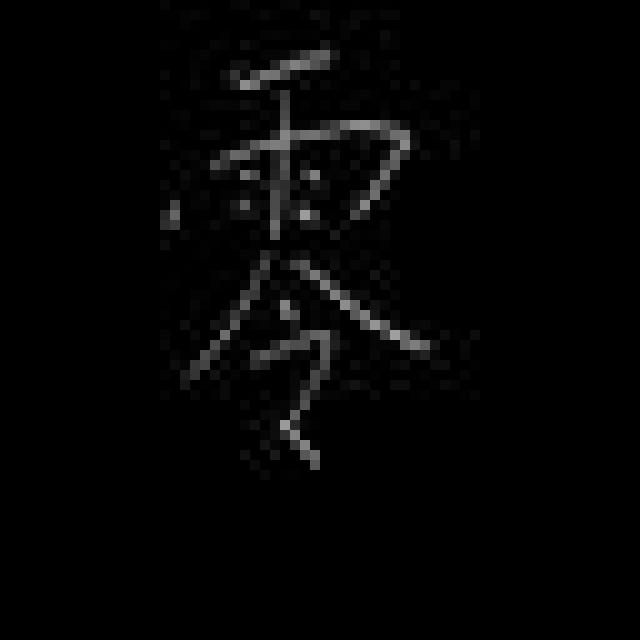0 -zero-: (153, 45, 443, 476)
